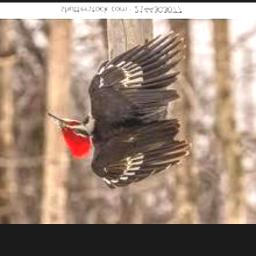Woodpecker: (48, 31, 191, 189)
